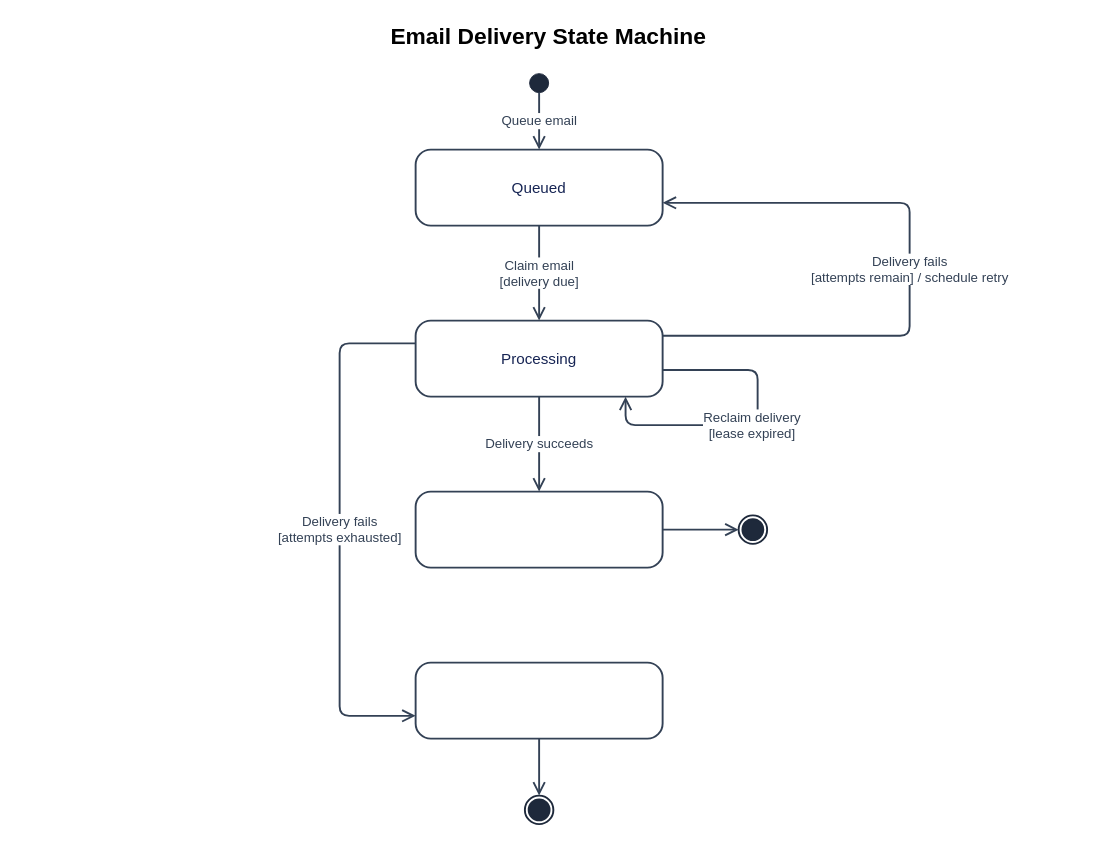
This 1096x841 diagram has some shape labels left out. Here are the shapes that lost their labels. From the top down, the box of each, then its label:
(414, 490, 663, 568): Sent
(414, 661, 663, 739): Failed
